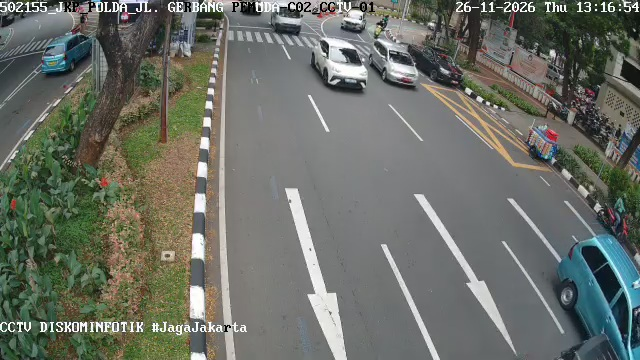Gerobak: (525, 120, 561, 161)
